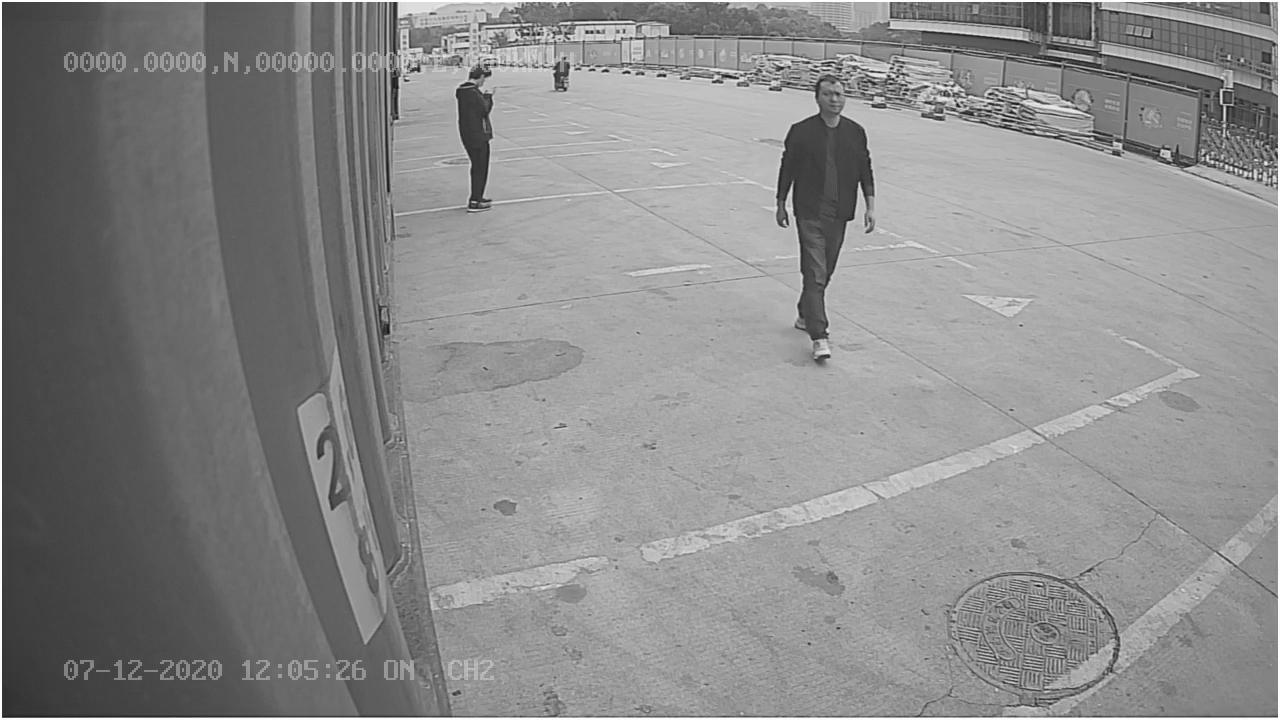person: (776, 67, 884, 367)
